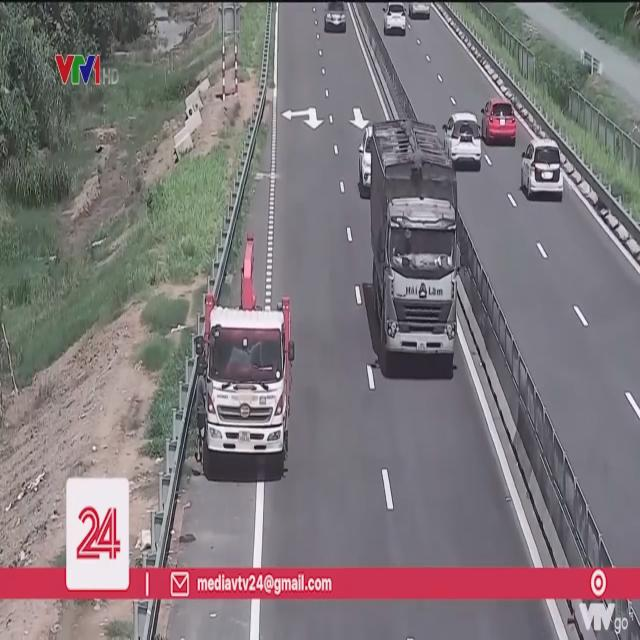car: (521, 133, 565, 202), (442, 111, 484, 170), (483, 100, 519, 148), (385, 5, 410, 37), (324, 3, 344, 32), (411, 2, 432, 21)
truck: (369, 123, 460, 377), (202, 294, 291, 476)
